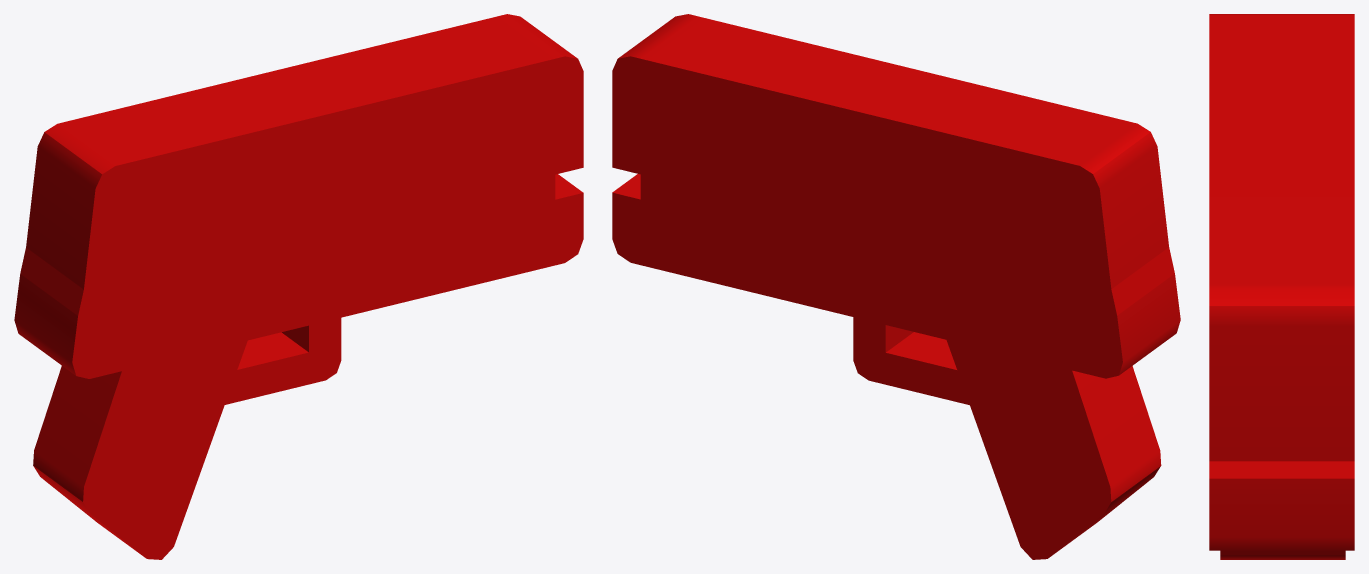
File: money gun.fbx
3 views of the same model, side by side, from view 1: azimuth 30°, elevation 25°; view 2: azimuth 150°, elevation 25°; view 3: azimuth 270°, elevation 25° (orthographic). The views are drawn at different scales.
Parts seen in each view (by area): view 1: pCube1, pCube2, pCube3; view 2: pCube1, pCube2, pCube3; view 3: pCube1, pCube2.
Part boxes in pixels (x1,y1,x2,y2): pCube1: [14, 14, 583, 378]; pCube2: [33, 340, 247, 559]; pCube3: [225, 318, 341, 404]; pCube1: [612, 14, 1180, 378]; pCube2: [946, 340, 1161, 559]; pCube3: [853, 317, 969, 404]; pCube1: [1209, 14, 1354, 550]; pCube2: [1220, 550, 1345, 559].
Size of the model in its own units: 20.64 by 15.79 by 4.04.
